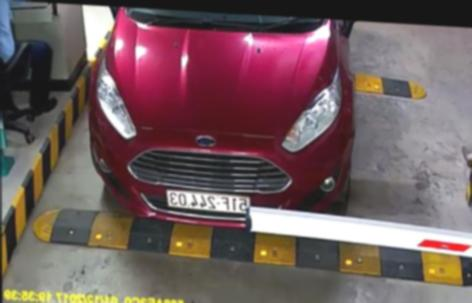License_Plate: (165, 186, 254, 219)
